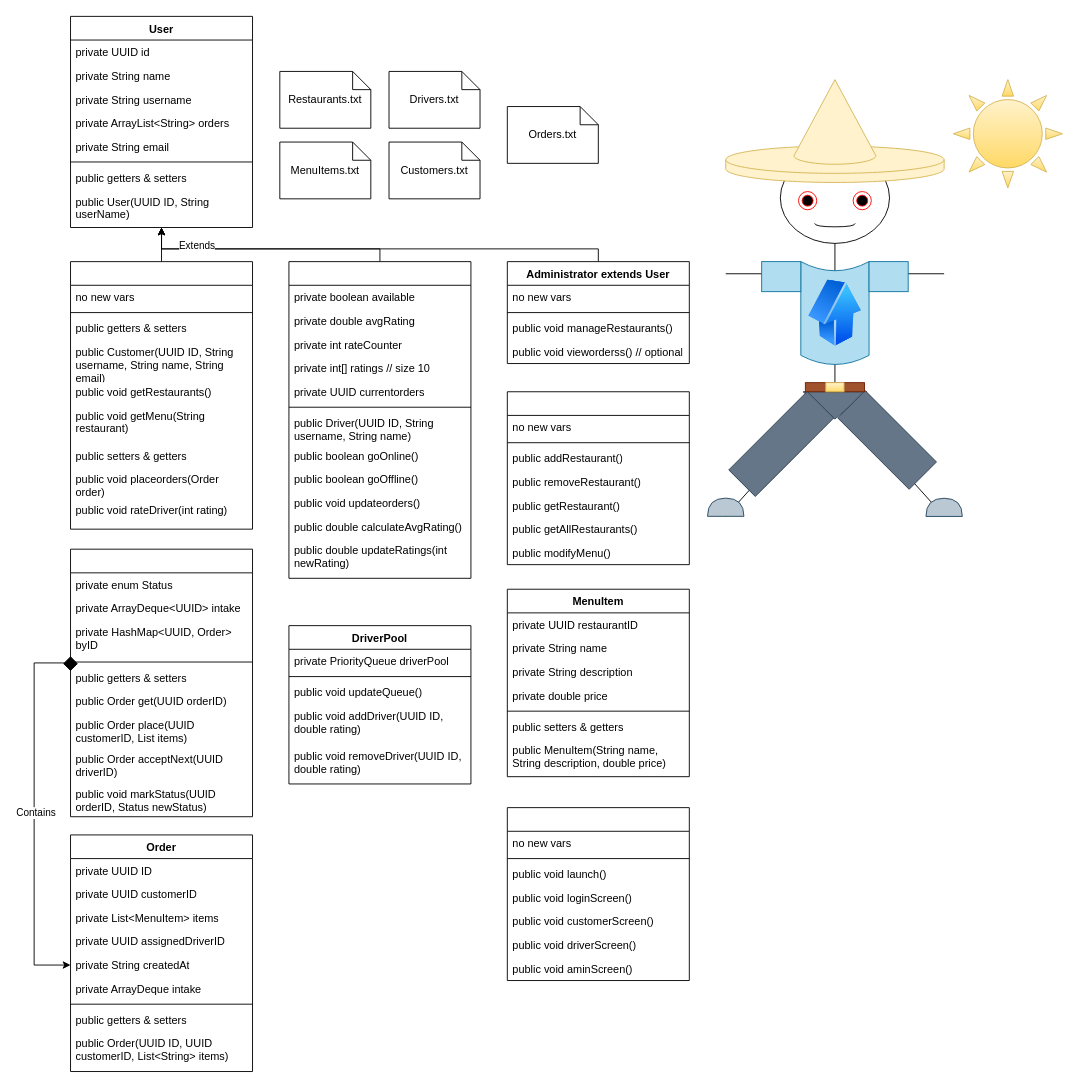
This 1078x1089 diagram has some shape labels left out. Here are the shapes that lost their labels. From the top down, the box of each, then its label:
(70, 261, 253, 529): Customer extends User
(288, 261, 471, 578): Driver extends User
(506, 391, 689, 565): RestaurantManager
(70, 548, 253, 817): OrderManager
(506, 807, 689, 981): CLI
